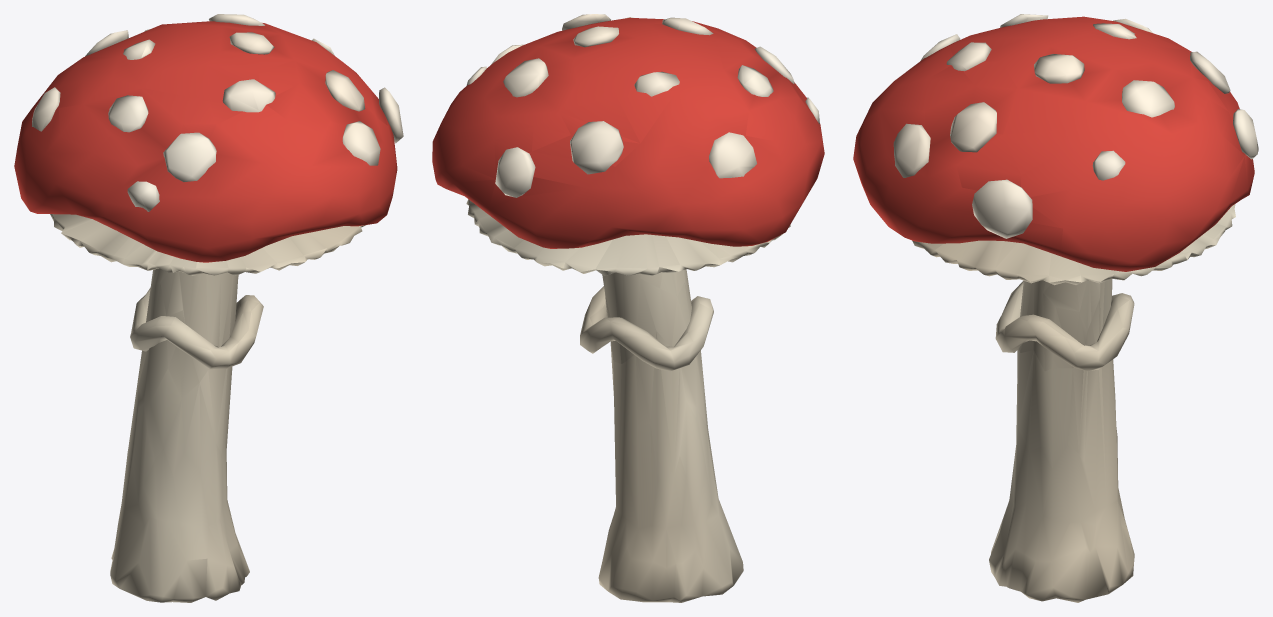
The model's file is glade_mushroom_red_lod1.glb.
3 renders of one model, left to right at view 1: azimuth 30°, elevation 25°; view 2: azimuth 150°, elevation 25°; view 3: azimuth 270°, elevation 25°, orthographic. The views are drawn at different scales.
Parts seen in each view (by area): view 1: glade_mushroom_red.001; view 2: glade_mushroom_red.001; view 3: glade_mushroom_red.001.
Boxes of the visible parts, x1,y1,x2,y2 form: glade_mushroom_red.001: (14, 14, 403, 602); glade_mushroom_red.001: (432, 14, 824, 602); glade_mushroom_red.001: (853, 14, 1258, 602).
Size of the model in its own units: 14.57 by 22.05 by 14.72.
